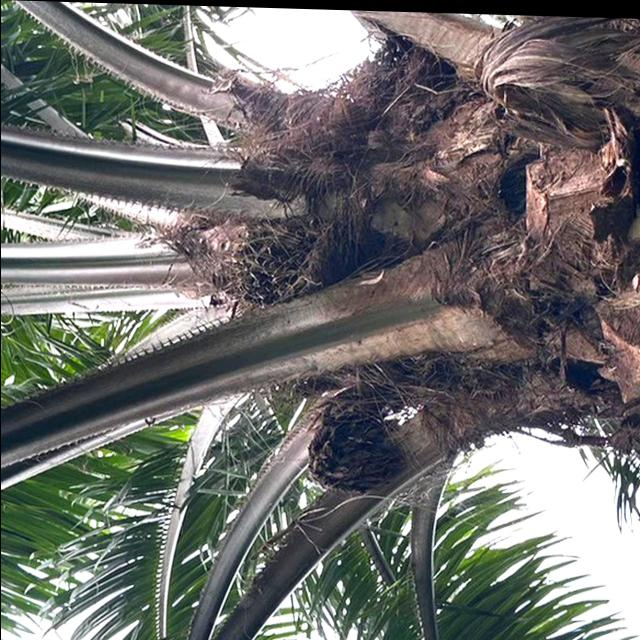unripe: (224, 204, 350, 316)
